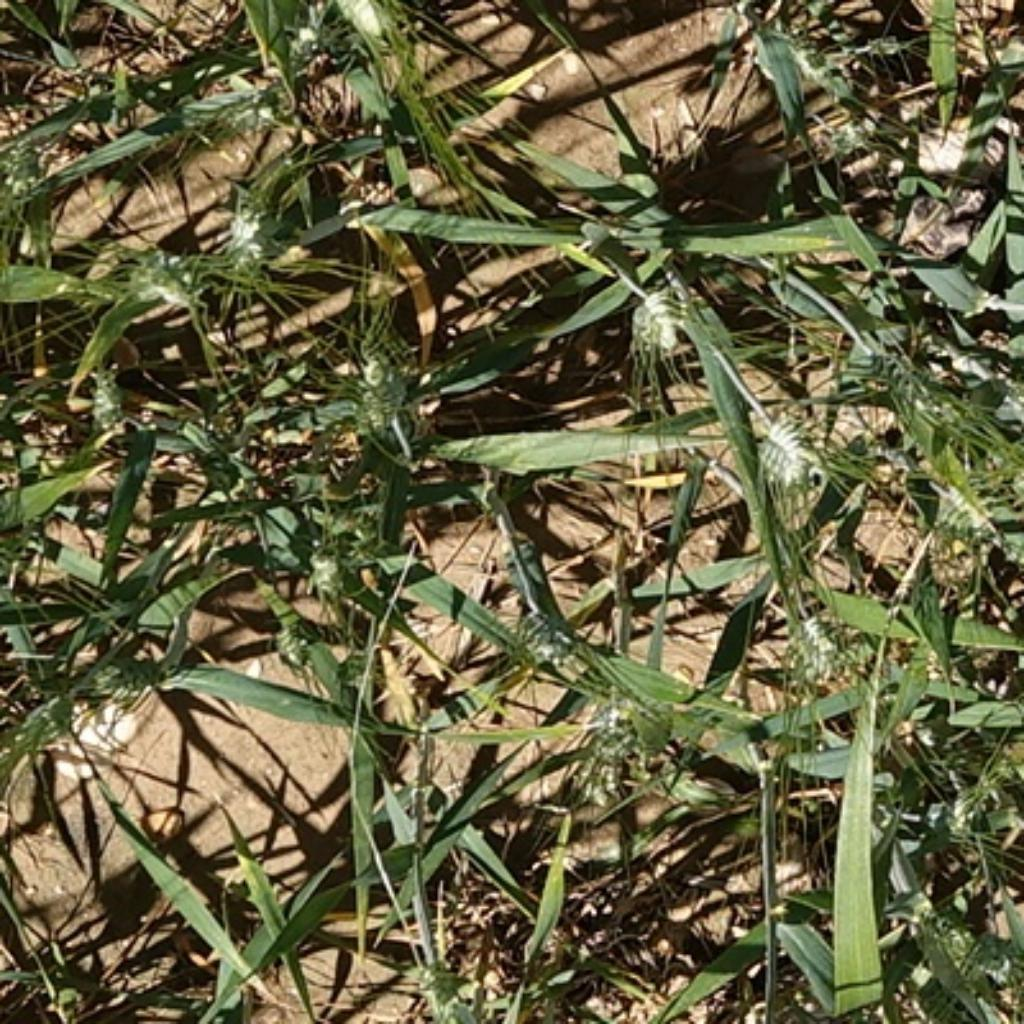0-0: (921, 905, 1024, 1018), (573, 695, 659, 827), (483, 583, 601, 673), (913, 762, 1024, 855), (744, 399, 839, 506), (770, 591, 867, 688), (335, 327, 422, 435), (212, 163, 294, 268), (112, 227, 217, 304), (924, 463, 998, 560), (865, 348, 952, 430), (73, 650, 178, 711), (622, 268, 693, 355), (294, 542, 376, 604), (321, 0, 415, 54), (84, 355, 130, 424)
